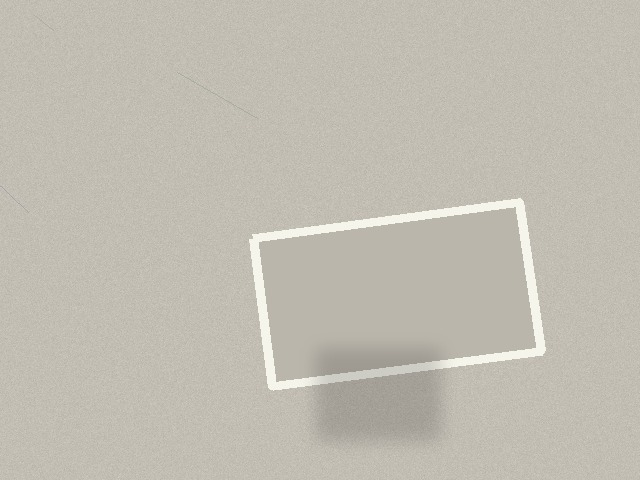parking_area: (253, 202, 541, 386)
